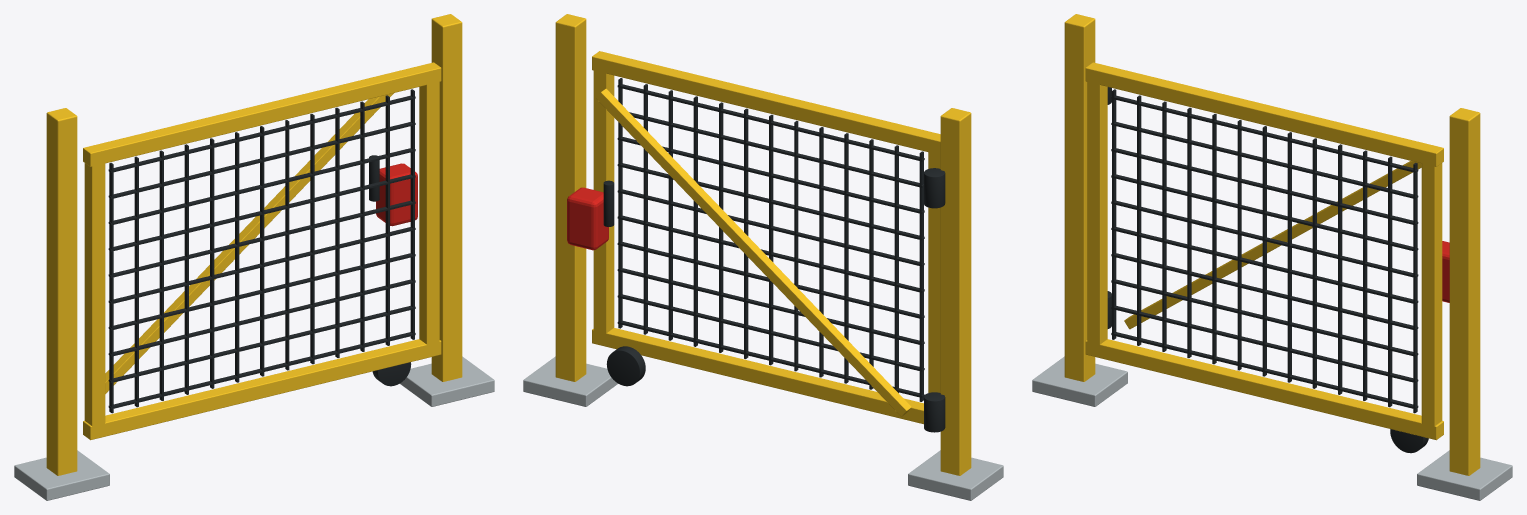
File: machine_safety_swing_gate.glb
The picture shows the model from 3 angles, left to right: view 1: azimuth 30°, elevation 25°; view 2: azimuth 150°, elevation 25°; view 3: azimuth 330°, elevation 25°; orthographic projection.
Visible parts, largest first — view 1: GATE_post_-1.15, GATE_post_1.15, GATE_frame_top, GATE_frame_bottom, GATE_frame_side_-1.0, GATE_frame_side_1.0, GATE_diagonal_brace, GATE_foot_-1.15, GATE_foot_1.15, GATE_latch, GATE_mesh_h_0.55, GATE_mesh_h_1.0 (+22 smaller); view 2: GATE_post_-1.15, GATE_post_1.15, GATE_frame_top, GATE_frame_bottom, GATE_diagonal_brace, GATE_frame_side_1.0, GATE_frame_side_-1.0, GATE_foot_-1.15, GATE_foot_1.15, GATE_latch, GATE_mesh_h_1.75, GATE_mesh_h_1.6 (+25 smaller); view 3: GATE_post_1.15, GATE_post_-1.15, GATE_frame_top, GATE_frame_bottom, GATE_frame_side_1.0, GATE_frame_side_-1.0, GATE_diagonal_brace, GATE_foot_1.15, GATE_foot_-1.15, GATE_mesh_h_0.55, GATE_mesh_h_0.85, GATE_mesh_h_1.0 (+21 smaller).
Boxes of the visible parts, x1,y1,x2,y2 form: GATE_post_-1.15: (46,108,77,475); GATE_post_1.15: (431,14,462,381); GATE_frame_top: (83,62,441,166); GATE_frame_bottom: (83,339,441,440); GATE_frame_side_-1.0: (84,144,105,439); GATE_frame_side_1.0: (419,63,439,357); GATE_diagonal_brace: (105,93,393,393); GATE_foot_-1.15: (14,450,109,500); GATE_foot_1.15: (400,356,494,406); GATE_latch: (376,163,417,226); GATE_mesh_h_0.55: (108,306,415,382); GATE_mesh_h_1.0: (108,227,415,304); GATE_post_-1.15: (940,108,971,475); GATE_post_1.15: (555,14,586,381); GATE_frame_top: (592,51,940,153); GATE_frame_bottom: (592,328,923,424); GATE_diagonal_brace: (596,88,911,416); GATE_frame_side_1.0: (593,51,614,345); GATE_frame_side_-1.0: (928,133,940,392); GATE_foot_-1.15: (908,450,1003,500); GATE_foot_1.15: (523,356,617,406); GATE_latch: (567,187,608,250); GATE_mesh_h_1.75: (617,84,924,161); GATE_mesh_h_1.6: (629,112,923,187); GATE_post_1.15: (1449,108,1480,475); GATE_post_-1.15: (1064,14,1095,381); GATE_frame_top: (1085,62,1443,166); GATE_frame_bottom: (1085,339,1443,440); GATE_frame_side_1.0: (1421,145,1442,439); GATE_frame_side_-1.0: (1087,63,1107,356); GATE_diagonal_brace: (1124,161,1421,329); GATE_foot_1.15: (1417,450,1512,500); GATE_foot_-1.15: (1032,356,1127,406); GATE_mesh_h_0.55: (1111,306,1418,382); GATE_mesh_h_0.85: (1111,253,1418,330); GATE_mesh_h_1.0: (1111,227,1418,304).
Bounding box in the file's own units: 2.68 × 2.1 × 0.42.
